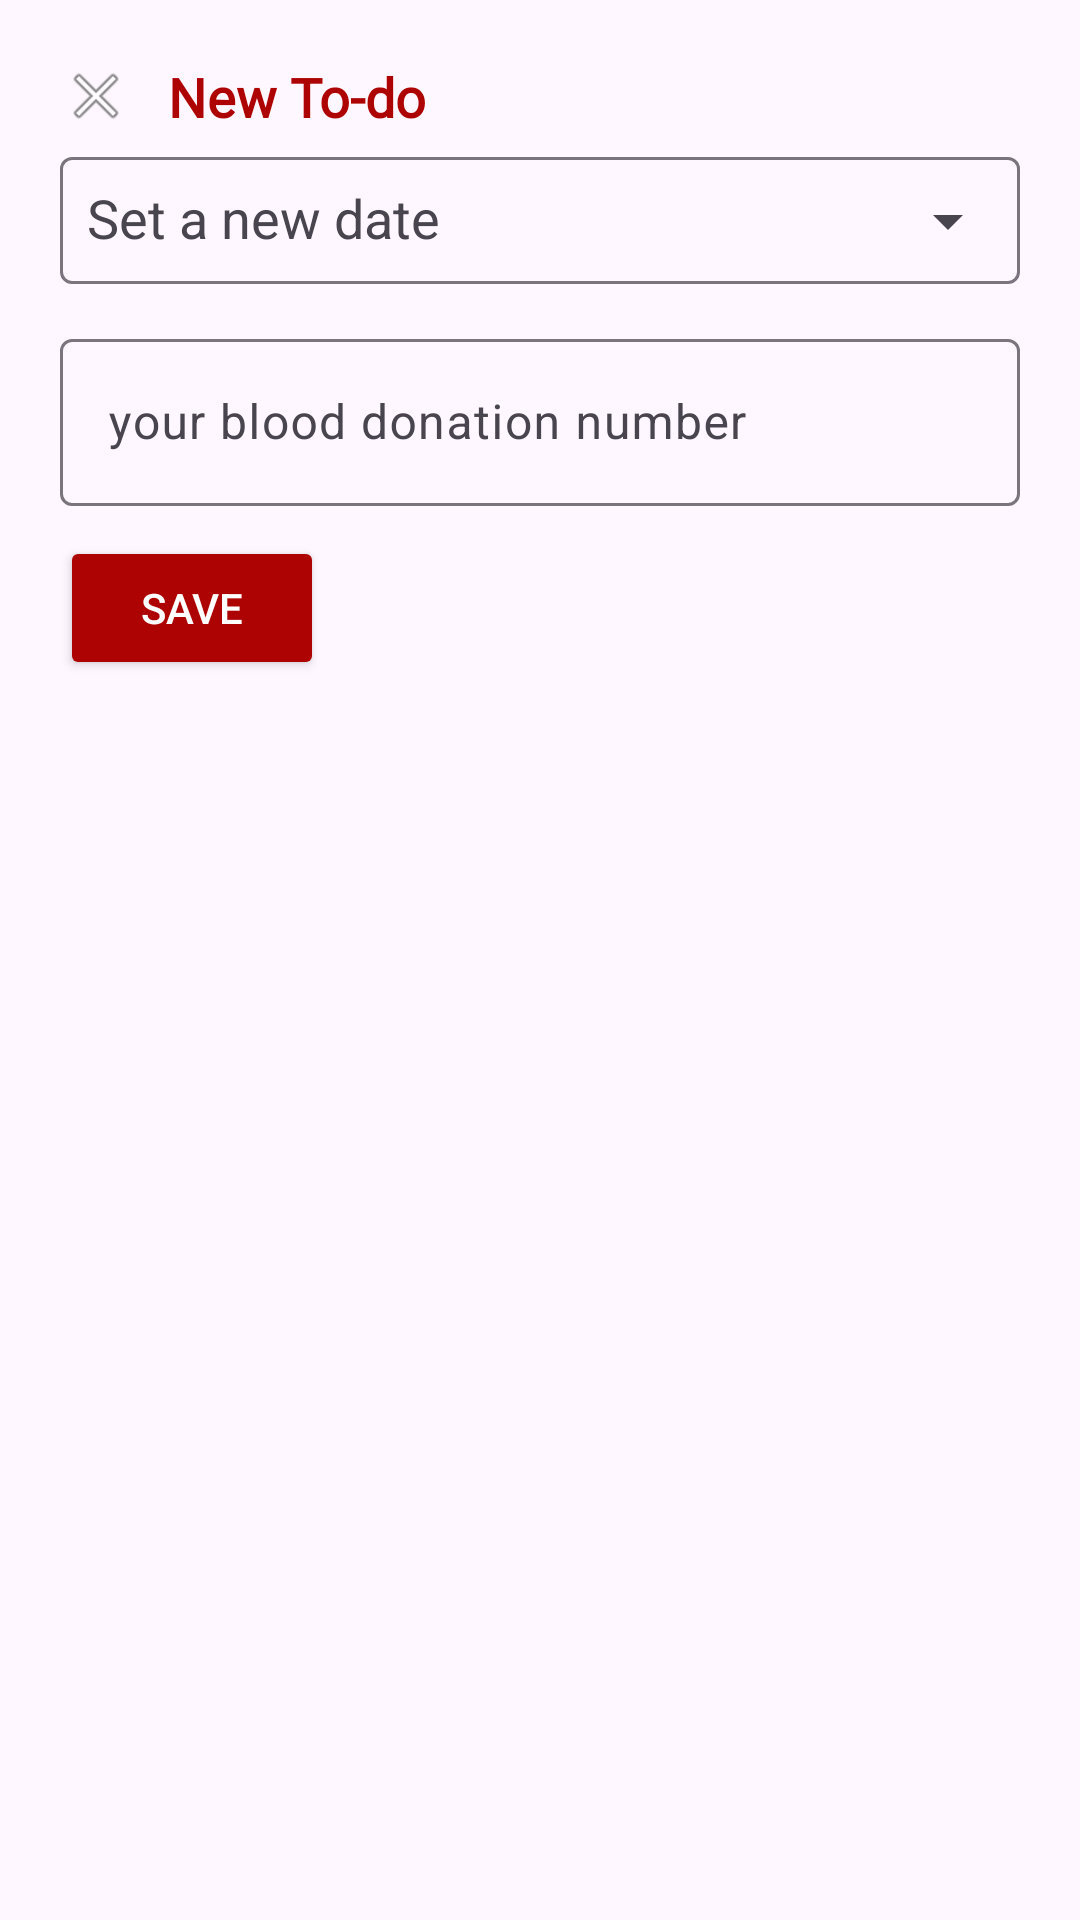

Screen size 1080*1920. Icon name, then its center in pixels as (x,y):
close clear cancel: (96,96)
